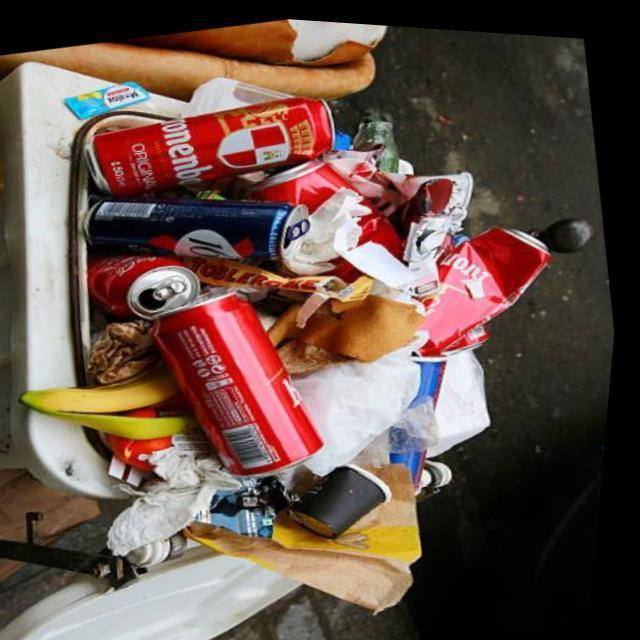Garbage: (28, 76, 595, 604)
Plastic_wraper: (195, 457, 431, 606), (67, 80, 150, 117)
can: (162, 291, 330, 473), (94, 93, 337, 194), (425, 222, 554, 349), (93, 195, 313, 256), (92, 255, 206, 315), (252, 156, 357, 207), (362, 193, 407, 253)
